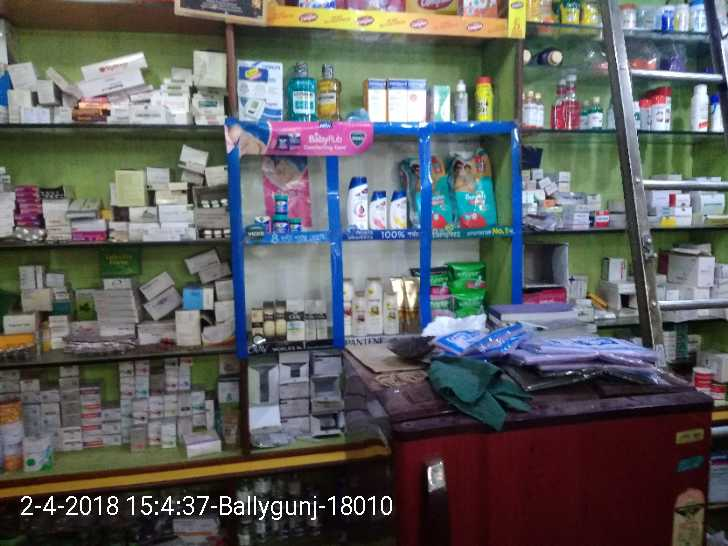oralcare: (288, 54, 318, 121), (319, 61, 341, 121)
vicks: (255, 191, 301, 233)
